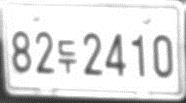0: (151, 34, 174, 78)
1: (130, 34, 146, 78)
2: (34, 31, 55, 74), (82, 32, 103, 75)
4: (105, 33, 126, 76)
8: (10, 30, 33, 72)
두: (57, 39, 77, 74)
